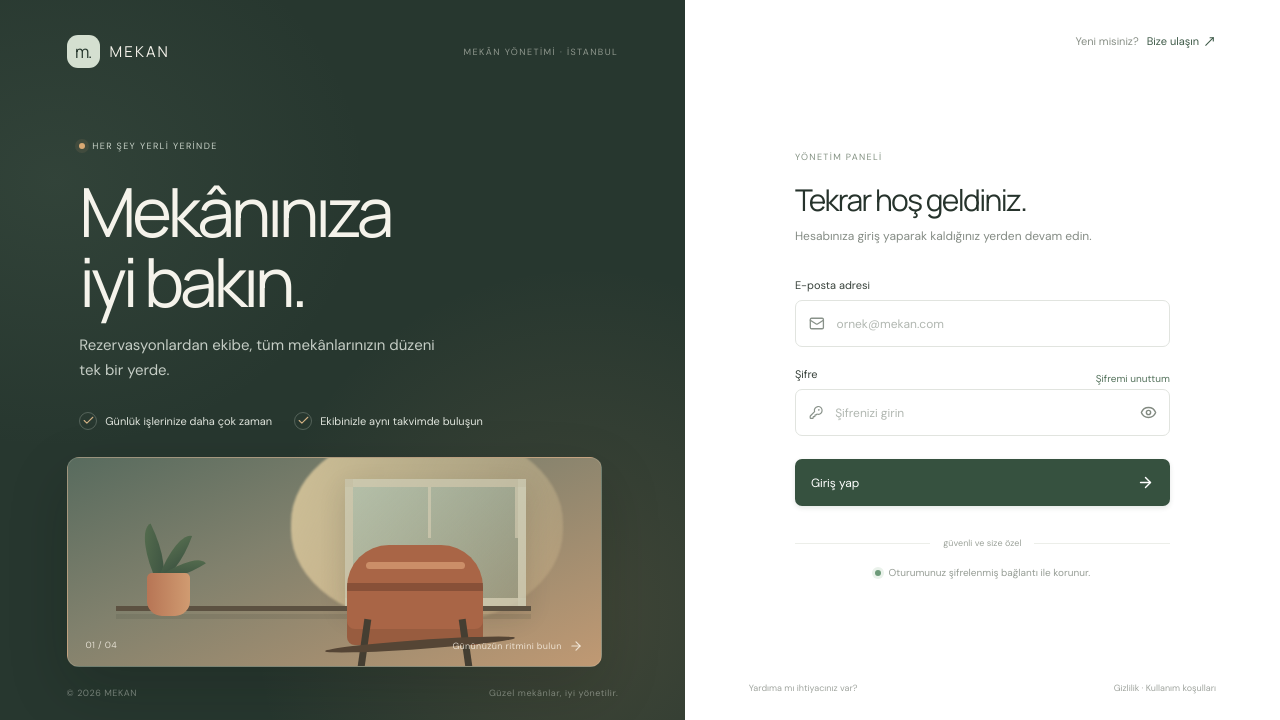
Test case: LoginScreen › sends a password reset request for the entered email
This screenshot has width=1280, height=720.
Click the button "Şifremi unuttum": [1133, 378] box [1096,372,1170,385]
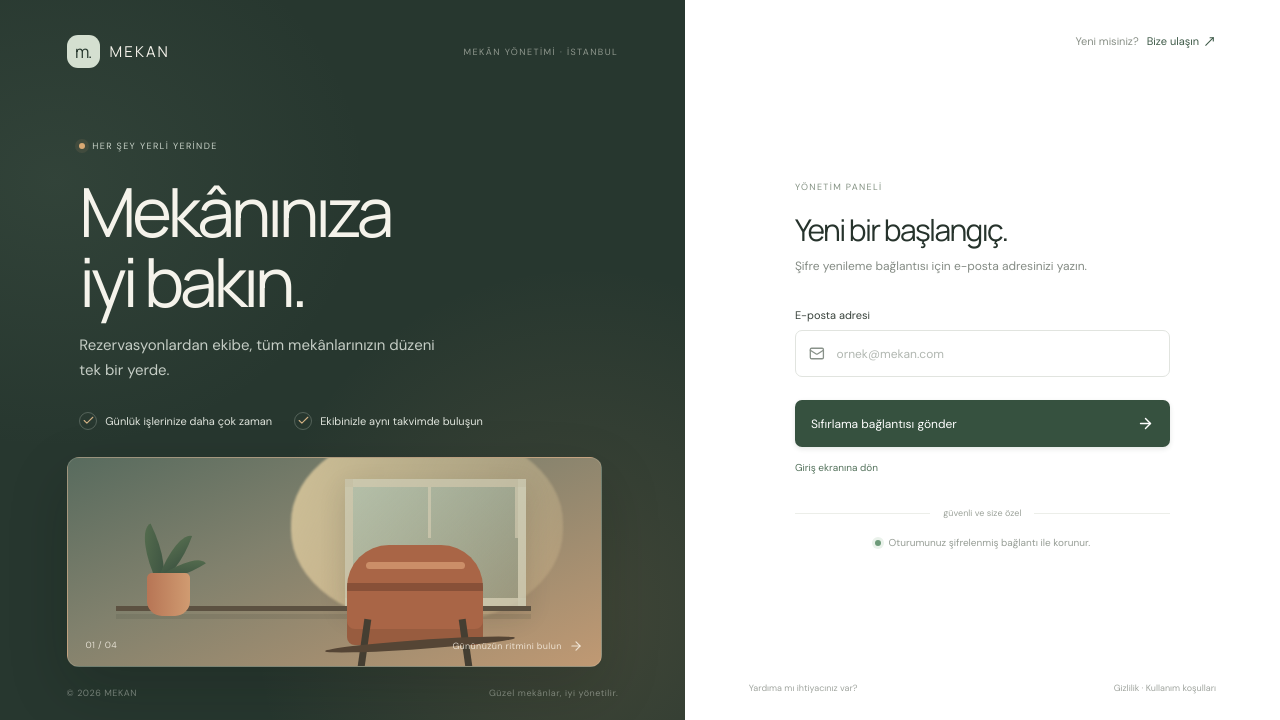
In the field labelled "E-posta adresi": [995, 354] box [835,345,1156,363], type "ayse@example.com"
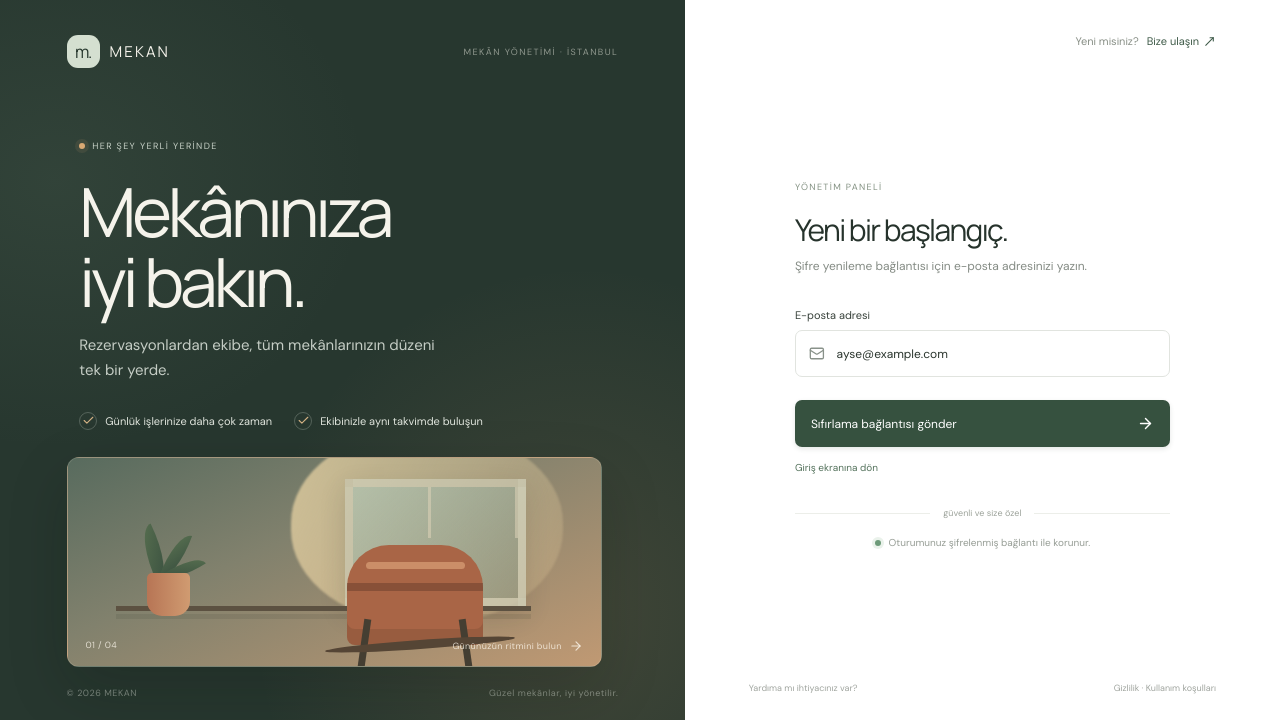
Click the button "Sıfırlama bağlantısı gönder": [884, 424] box [795,400,1170,447]
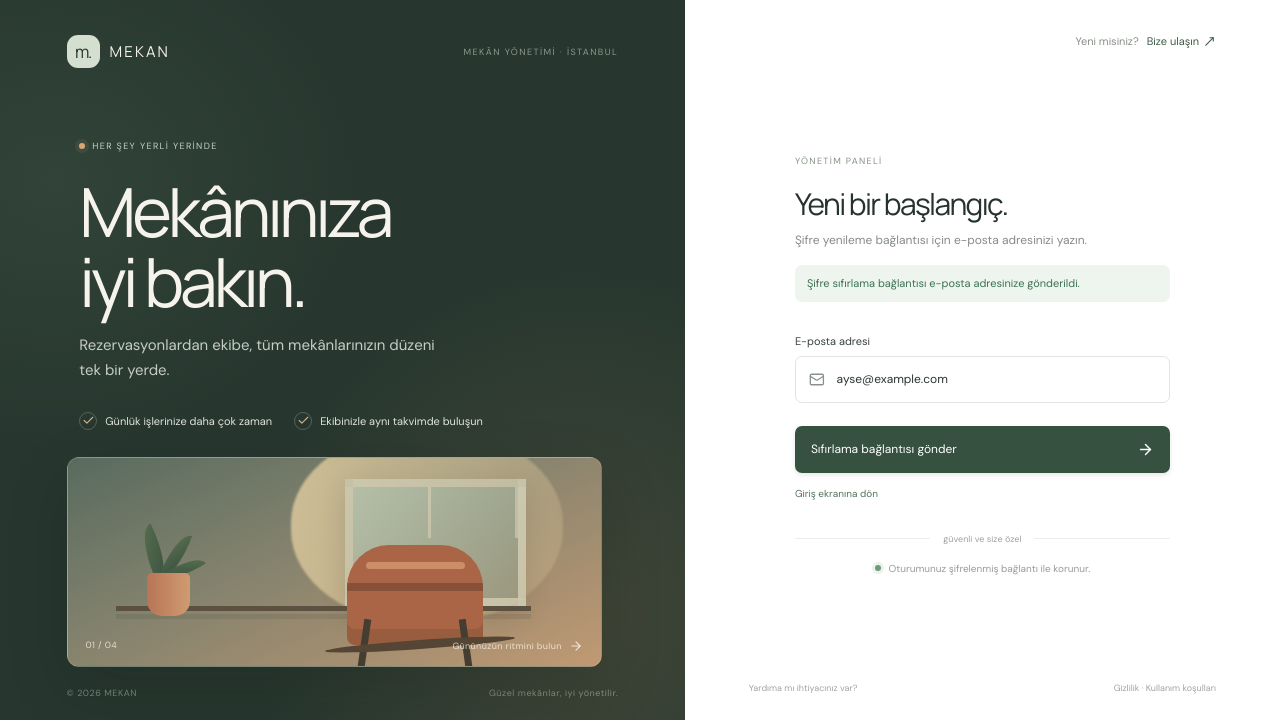
Now the message shows "bağlantısı e-posta adresinize gönderildi", box [807,276,1080,290]
